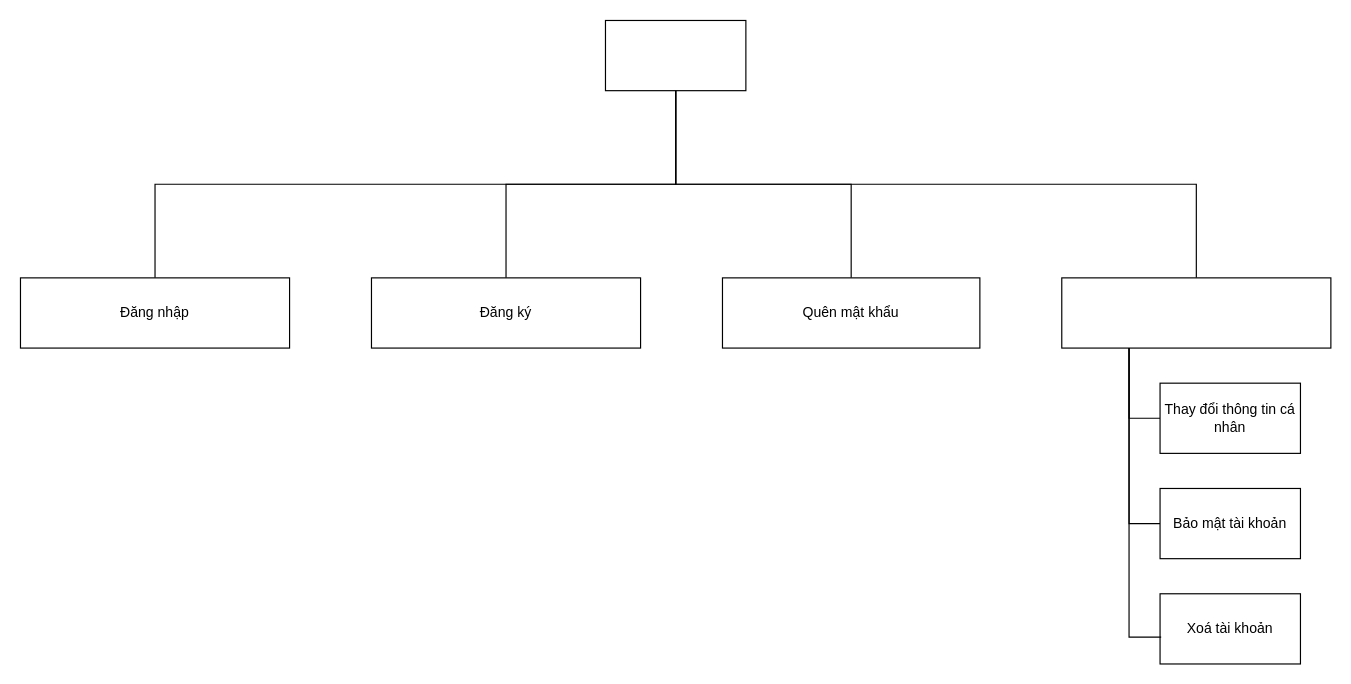
Some shapes in this 1351 by 684 pixel diagram are drawn without their labels. Each missing label, with the centre of its shape:
"Cài đặt tài khoản" belongs at pixel 1196 312.
"Hệ quản lý tài khoản" belongs at pixel 675 55.
